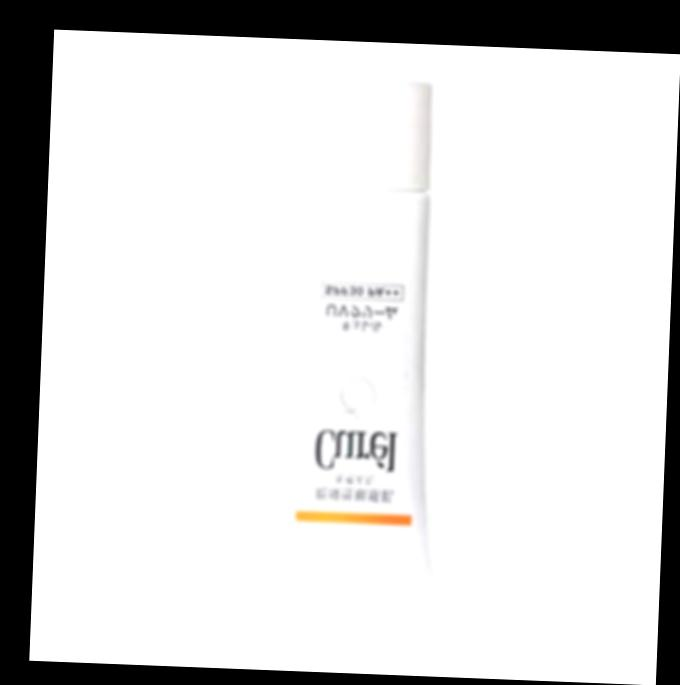cosmetic: (263, 80, 454, 611)
